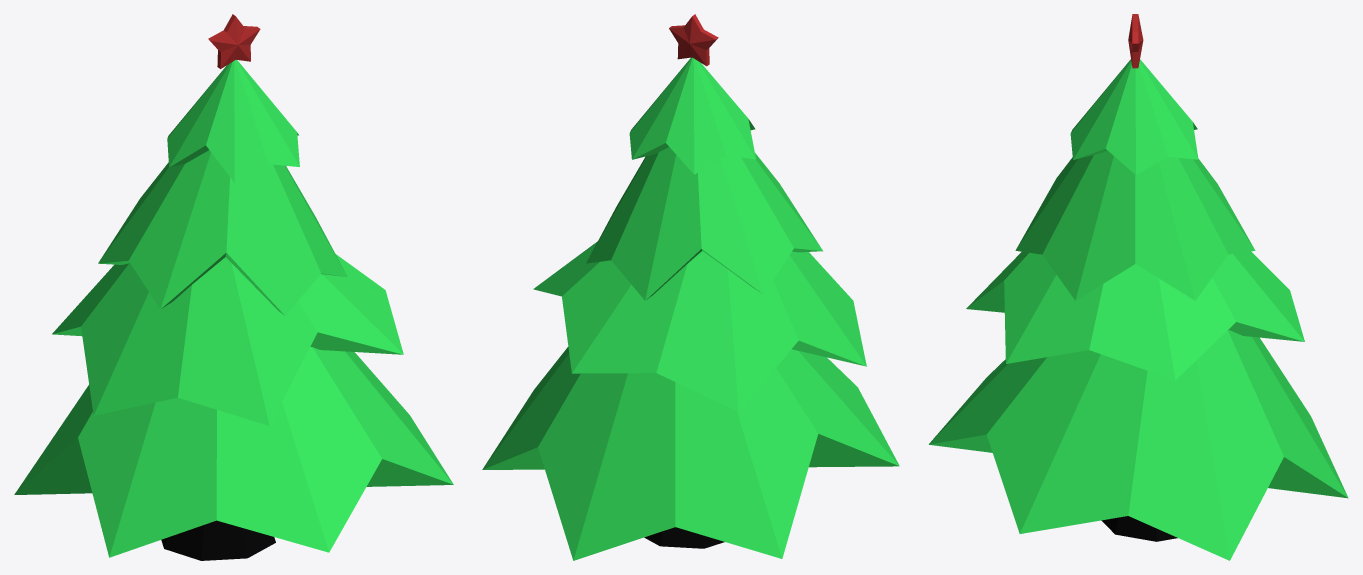
The model's file is Christmas tree.fbx.
The picture shows the model from 3 angles, left to right: view 1: azimuth 30°, elevation 25°; view 2: azimuth 150°, elevation 25°; view 3: azimuth 270°, elevation 25°; orthographic projection. The views are drawn at different scales.
Visible parts, largest first — view 1: Christmas tree; view 2: Christmas tree; view 3: Christmas tree.
Part boxes in pixels (left/top/right/bottom): Christmas tree: left=14, top=14, right=453, bottom=560; Christmas tree: left=482, top=14, right=899, bottom=560; Christmas tree: left=929, top=14, right=1348, bottom=560.
Bounding box in the file's own units: 159 × 232 × 175.
